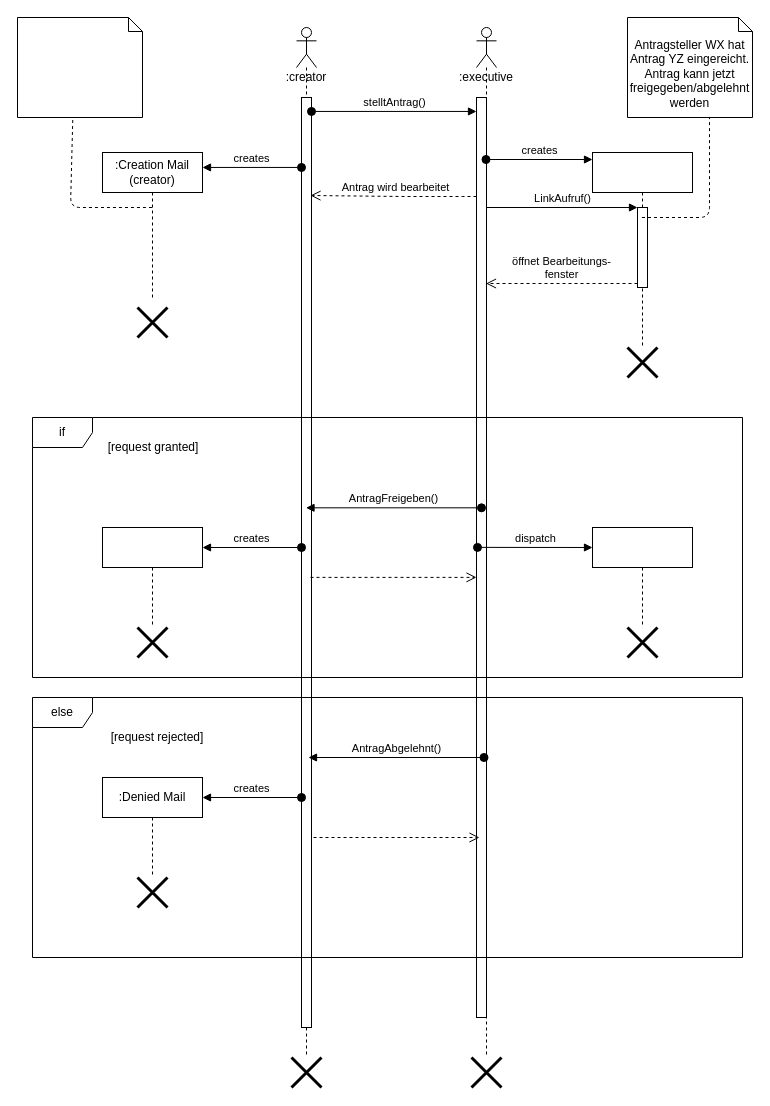
Some shapes in this 770 by 1106 pixel diagram are drawn without their labels. The box of each missing label's shape, as (x1, y1, x2, y2) in pixels:
:Accounting Mail: (592, 526, 692, 628)
:Creation Mail (executive): (592, 152, 692, 348)
:Granted Mail: (102, 526, 202, 628)
Bestätigung an den Antragsteller das der Antrag erfolgreich eingereicht wurde: (16, 16, 142, 118)
